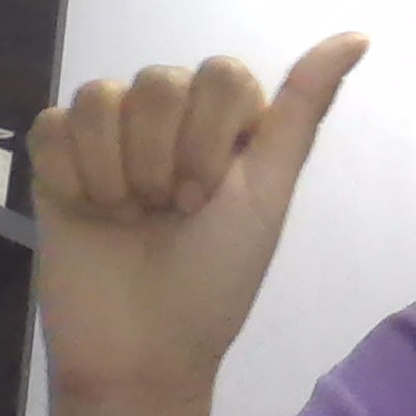A: (28, 32, 368, 383)
